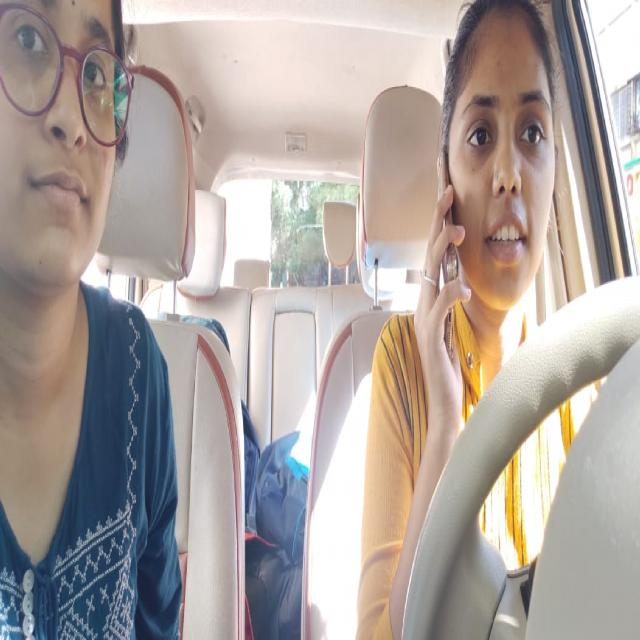mobile: (434, 127, 464, 360)
person: (0, 0, 142, 303), (441, 0, 557, 324)
